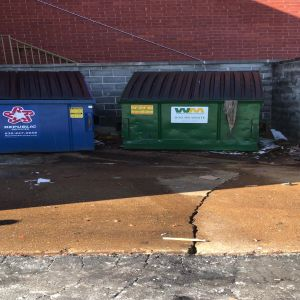Dumpster: (117, 70, 268, 155), (1, 70, 101, 159)
